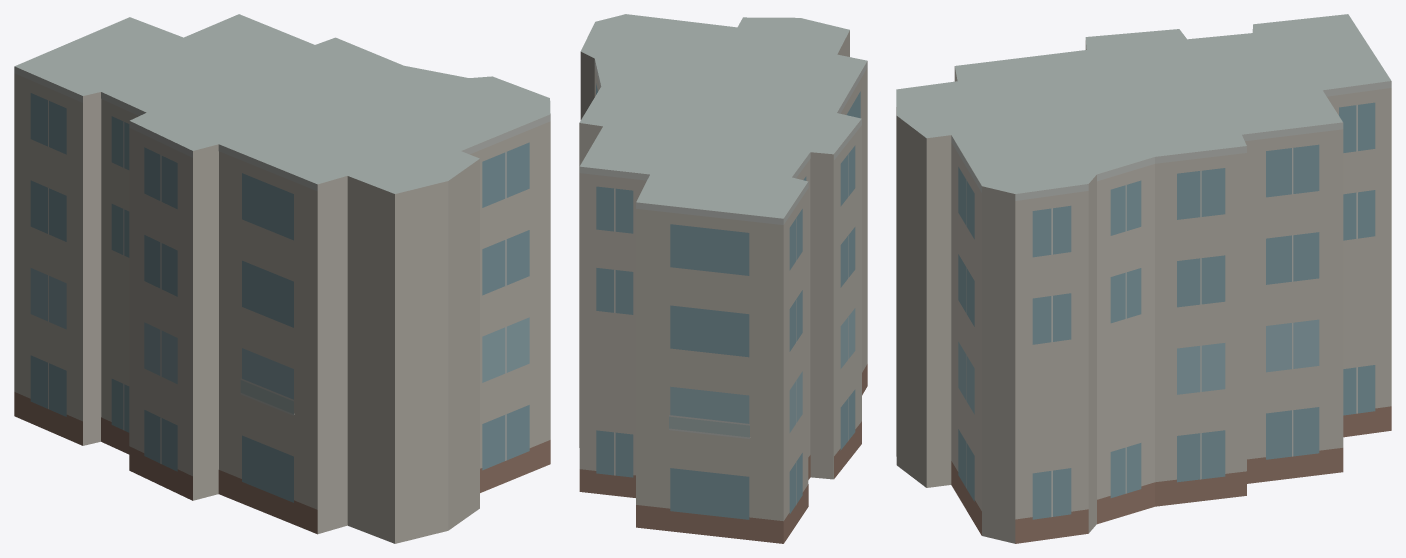
The model's file is survey-upis-32969809.glb.
3 renders of one model, left to right at view 1: azimuth 30°, elevation 25°; view 2: azimuth 150°, elevation 25°; view 3: azimuth 270°, elevation 25°, orthographic. The views are drawn at different scales.
Visible parts, largest first — view 1: survey-upis-32969809.tmp; view 2: survey-upis-32969809.tmp; view 3: survey-upis-32969809.tmp.
Part boxes in pixels (<box>): survey-upis-32969809.tmp: <box>14,14,550,543</box>; survey-upis-32969809.tmp: <box>579,14,867,543</box>; survey-upis-32969809.tmp: <box>896,14,1391,543</box>.
Bounding box in the file's own units: 13.59 × 12.3 × 15.79.
